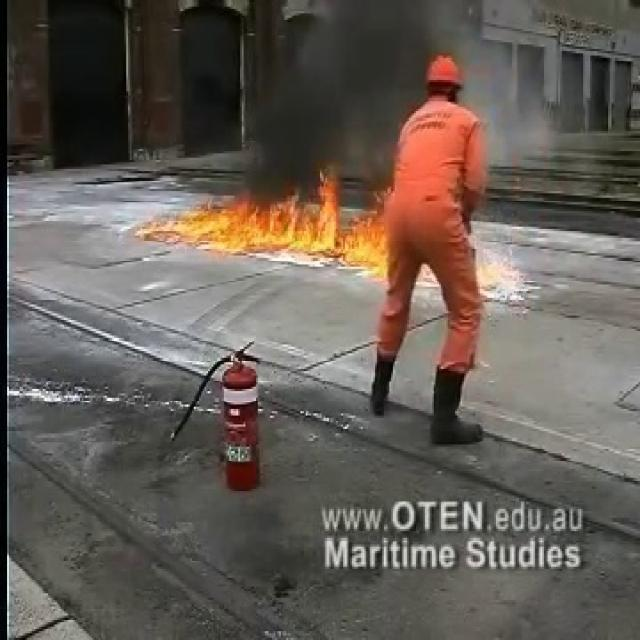Fire: (136, 173, 388, 267)
Smoke: (205, 0, 560, 158)
